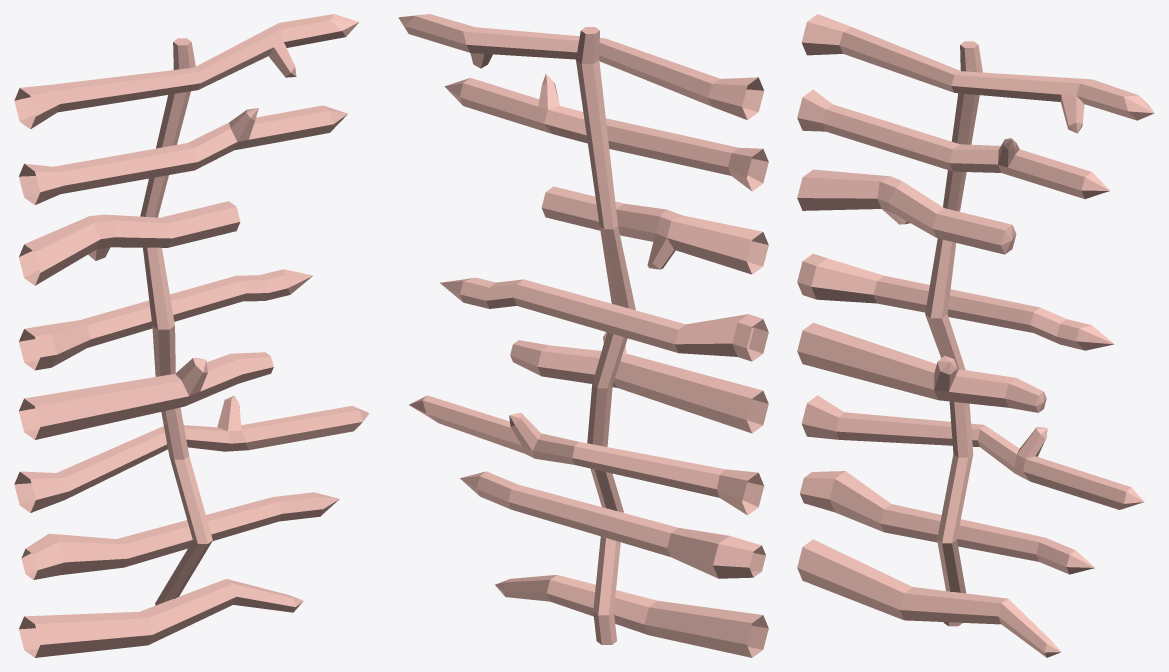
File: Mega_Asset_s_Pack_Cylinder_028.FBX
The picture shows the model from 3 angles, left to right: view 1: azimuth 30°, elevation 25°; view 2: azimuth 150°, elevation 25°; view 3: azimuth 330°, elevation 25°; orthographic projection. The views are drawn at different scales.
Visible parts, largest first — view 1: Mega_Asset_s_Pack_Cylinder_028; view 2: Mega_Asset_s_Pack_Cylinder_028; view 3: Mega_Asset_s_Pack_Cylinder_028.
Boxes of the visible parts, bbox=[...] form: Mega_Asset_s_Pack_Cylinder_028: bbox=[14, 14, 369, 657]; Mega_Asset_s_Pack_Cylinder_028: bbox=[398, 14, 768, 657]; Mega_Asset_s_Pack_Cylinder_028: bbox=[797, 14, 1154, 657].
Size of what is drawn, in the model's own units: 176 by 39.5 by 290.
